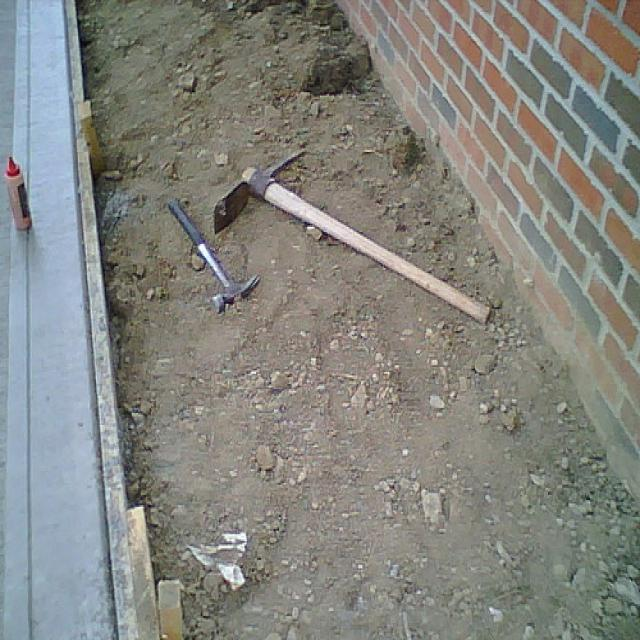hammer: (164, 188, 268, 322)
